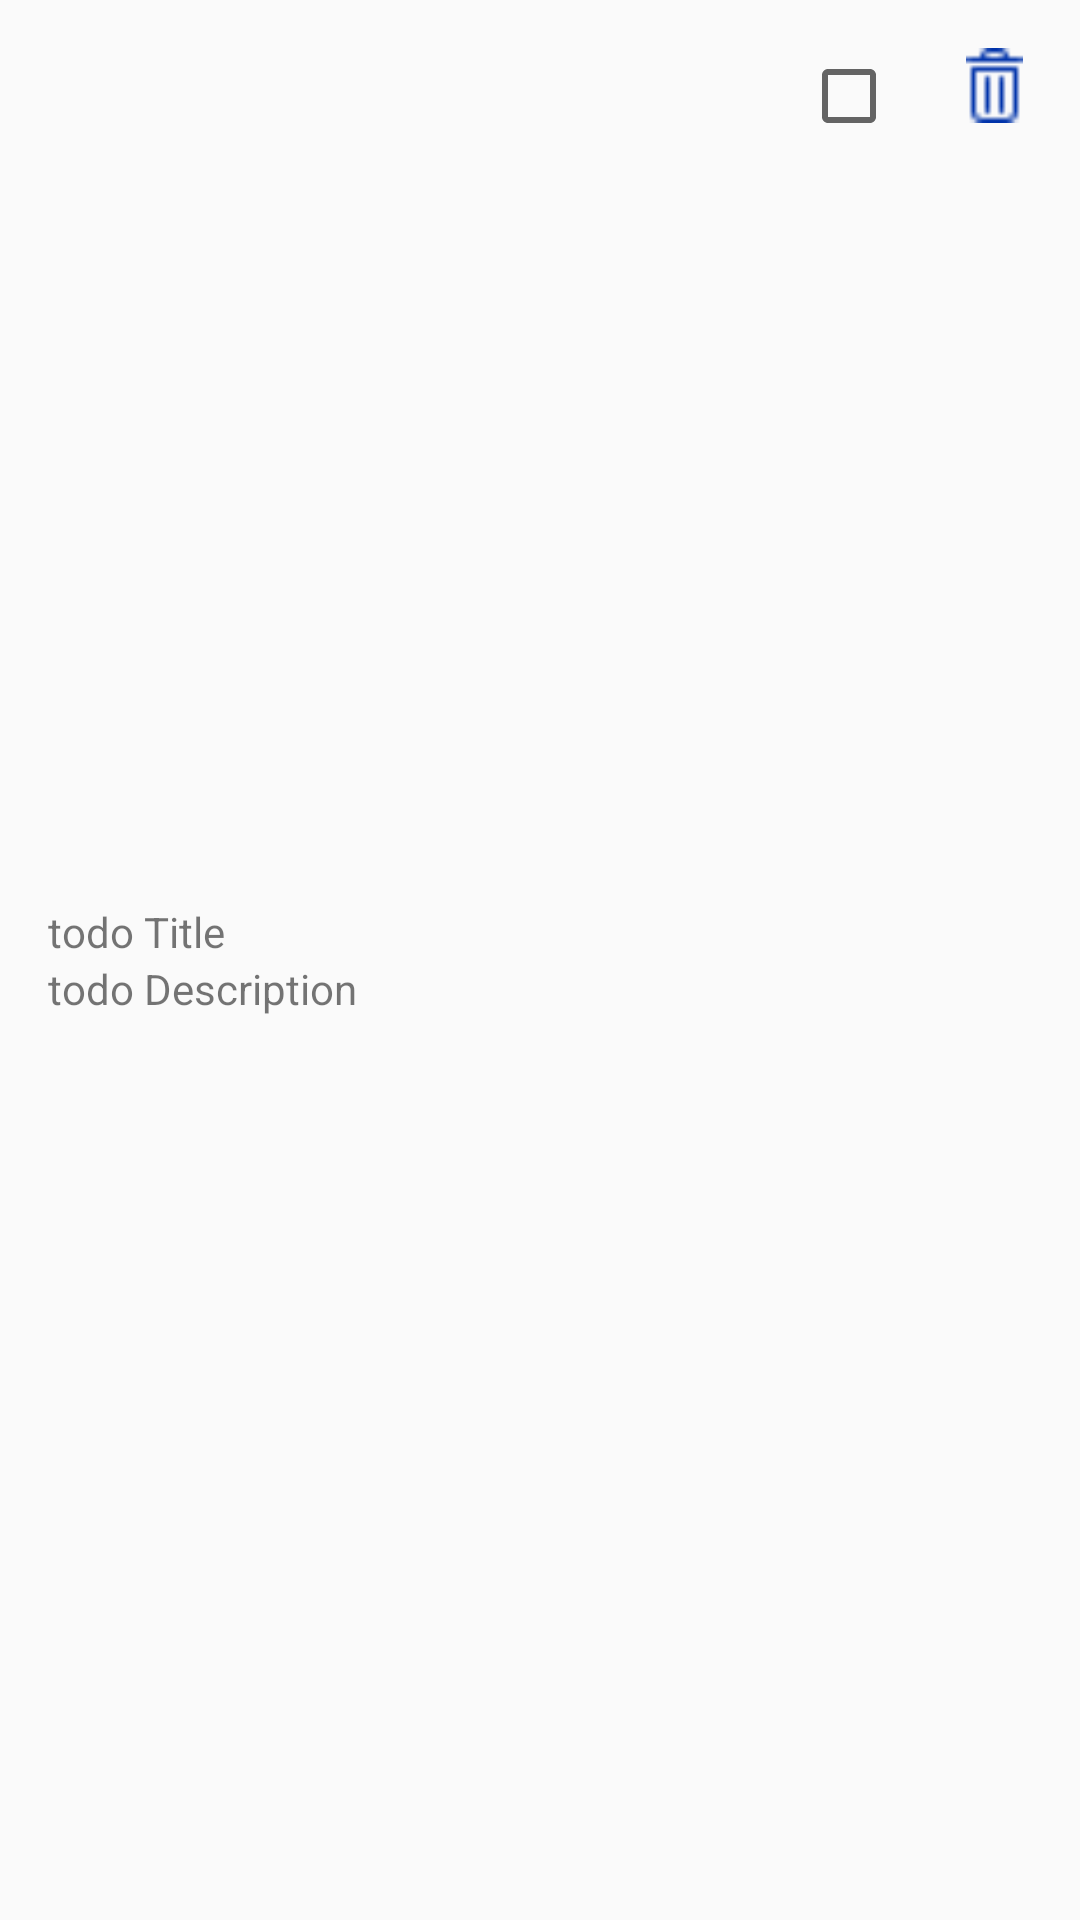

Point at icon controls on the screen. Image size 1080 × 1920, points as [x,y].
delete: [994,85]
